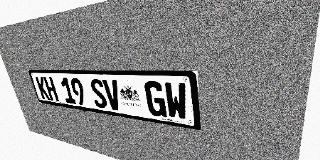1: (59, 77, 76, 104)
9: (69, 78, 87, 106)
G: (144, 81, 167, 118)
H: (43, 77, 59, 101)
K: (35, 76, 50, 100)
S: (89, 79, 108, 109)
V: (102, 79, 123, 111)
W: (164, 82, 188, 121)
